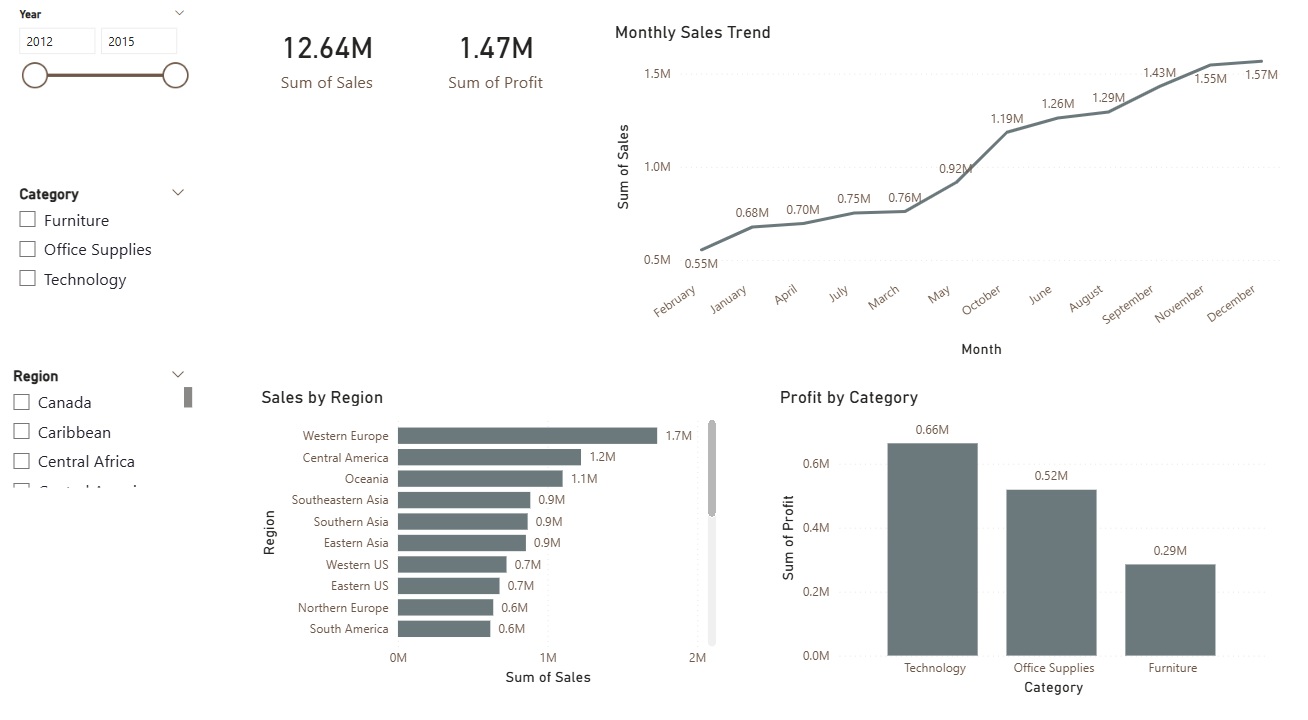

The page's visual inventory and layout, read from the dashboard file:
{"tool":"powerbi","page":{"name":"Page 1","canvas":[1280,720],"ordinal":0},"visuals":[{"type":"lineChart","title":"Monthly Sales Trend","fields":{"Y":["Sum(Orders.Sales)"],"Category":["Orders.Month"]},"box":[596.2,35,662.5,333.8],"z":0},{"type":"card","fields":{"Values":["Sum(Orders.Sales)"]},"box":[231.2,0,177.5,140],"z":1000},{"type":"barChart","title":"Sales by Region","fields":{"Category":["Orders.Region"],"Y":["Sum(Orders.Sales)"]},"box":[251.2,392.5,455,297.5],"z":2000},{"type":"columnChart","title":"Profit by Category","fields":{"Category":["Orders.Category"],"Y":["Sum(Orders.Profit)"]},"box":[758.8,392.5,487.5,307.5],"z":3000},{"type":"slicer","fields":{"Values":["Orders.Year"]},"box":[6.1,17.1,187.1,122.3],"z":4000},{"type":"slicer","fields":{"Values":["Orders.Region"]},"box":[0,369.3,193.2,127.2],"z":5000},{"type":"slicer","fields":{"Values":["Orders.Category"]},"box":[6.1,190.8,187.1,128.4],"z":6000},{"type":"card","fields":{"Values":["Sum(Orders.Profit)"]},"box":[392.5,0,185,140],"z":7000}]}

Visuals, with their boxes in screenshot pixels (x1, y1, x2, y2), scaled from the page's 1280x720 canvas onto the 1308x720 screenshot:
"Monthly Sales Trend" lineChart: left=609, top=35, right=1286, bottom=369
card - Sum(Orders.Sales): left=236, top=0, right=418, bottom=140
"Sales by Region" barChart: left=257, top=392, right=722, bottom=690
"Profit by Category" columnChart: left=775, top=392, right=1274, bottom=700
slicer - Orders.Year: left=6, top=17, right=197, bottom=139
slicer - Orders.Region: left=0, top=369, right=197, bottom=496
slicer - Orders.Category: left=6, top=191, right=197, bottom=319
card - Sum(Orders.Profit): left=401, top=0, right=590, bottom=140
